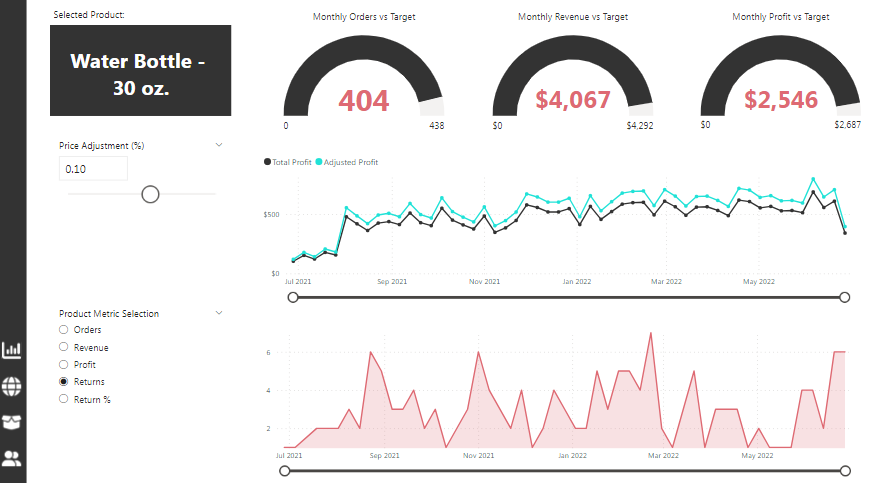

This screenshot's page, from the dashboard's own definition file:
{"tool":"powerbi","page":{"name":"Product Detail","canvas":[1280,720],"ordinal":2},"visuals":[{"type":"shape","title":"Left Nav Background","box":[0,0,44.3,720],"z":0},{"type":"actionButton","box":[3.7,501.1,36.3,35.8],"z":0,"group":"g1"},{"type":"gauge","title":"Monthly Orders vs Target","fields":{"Y":["Measure Table.Total Orders"],"MaxValue":["Measure Table.Order Target"]},"box":[409,28.8,241.9,198.7],"z":1000},{"type":"actionButton","box":[4,552.8,36.5,36],"z":1000,"group":"g1"},{"type":"gauge","title":"Monthly Revenue vs Target","fields":{"Y":["Measure Table.Total Revenue"],"MaxValue":["Measure Table.Revenue Target"]},"box":[709.5,28.8,241.9,198.7],"z":2000},{"type":"actionButton","box":[4,604.6,36.5,36],"z":2000,"group":"g1"},{"type":"gauge","title":"Monthly Profit vs Target","fields":{"Y":["Measure Table.Total Profit"],"MaxValue":["Measure Table.Profit Target"]},"box":[1010,28.6,241.4,198.6],"z":3000},{"type":"actionButton","box":[4,656.5,36.5,36],"z":3000,"group":"g1"},{"type":"lineChart","title":"Profit Trending","fields":{"Category":["Calendar Lookup.Date Hierarchy.Start of Year","Calendar Lookup.Date Hierarchy.Start of Month","Calendar Lookup.Date Hierarchy.Start of Week","Calendar Lookup.Date Hierarchy.Date"],"Y":["Measure Table.Total Profit","Measure Table.Adjusted Profit"]},"box":[380,227.1,871.4,225.7],"z":4000},{"type":"areaChart","title":"Return Trending","fields":{"Y":["Measure Table.Total Returns"],"Category":["Calendar Lookup.Date Hierarchy.Start of Year","Calendar Lookup.Date Hierarchy.Start of Month","Calendar Lookup.Date Hierarchy.Start of Week","Calendar Lookup.Date Hierarchy.Date"]},"box":[380,480,871.4,224.3],"z":5000},{"type":"card","fields":{"Values":["Min(Product Lookup.ProductName)"]},"box":[77.1,50,261.4,131.4],"z":6000},{"type":"textbox","box":[77.1,21.4,121.4,28.6],"z":7000},{"type":"group","id":"g1","title":"Navigation Buttons","box":[3.7,501.1,36.7,191.4],"z":8000},{"type":"slicer","fields":{"Values":["Price Adjustment (%).Price Adjustment (%)"]},"box":[77.1,210,261.4,150],"z":9000},{"type":"slicer","fields":{"Values":["Product Metric Selection.Product Metric Selection"]},"box":[77.1,452.9,261.4,155.7],"z":10000}]}

Visuals, with their boxes on the page's 1280x720 design canvas (x1, y1, x2, y2). These are canvas units, not pixel positions in the 880x483 screenshot, which may show the page scaled, cropped or inside an application window:
"Left Nav Background" shape: (0,0,44,720)
actionButton: (4,501,40,537)
"Monthly Orders vs Target" gauge: (409,29,651,228)
actionButton: (4,553,40,589)
"Monthly Revenue vs Target" gauge: (710,29,951,228)
actionButton: (4,605,40,641)
"Monthly Profit vs Target" gauge: (1010,29,1251,227)
actionButton: (4,656,40,692)
"Profit Trending" lineChart: (380,227,1251,453)
"Return Trending" areaChart: (380,480,1251,704)
card - Min(Product Lookup.ProductName): (77,50,338,181)
textbox: (77,21,198,50)
"Navigation Buttons" group: (4,501,40,692)
slicer - Price Adjustment (%).Price Adjustment (%): (77,210,338,360)
slicer - Product Metric Selection.Product Metric Selection: (77,453,338,609)
